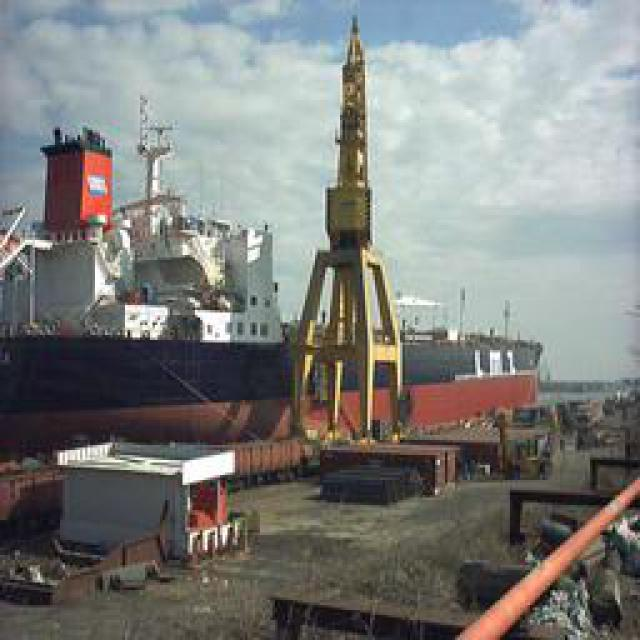Ship: (275, 206, 545, 479)
